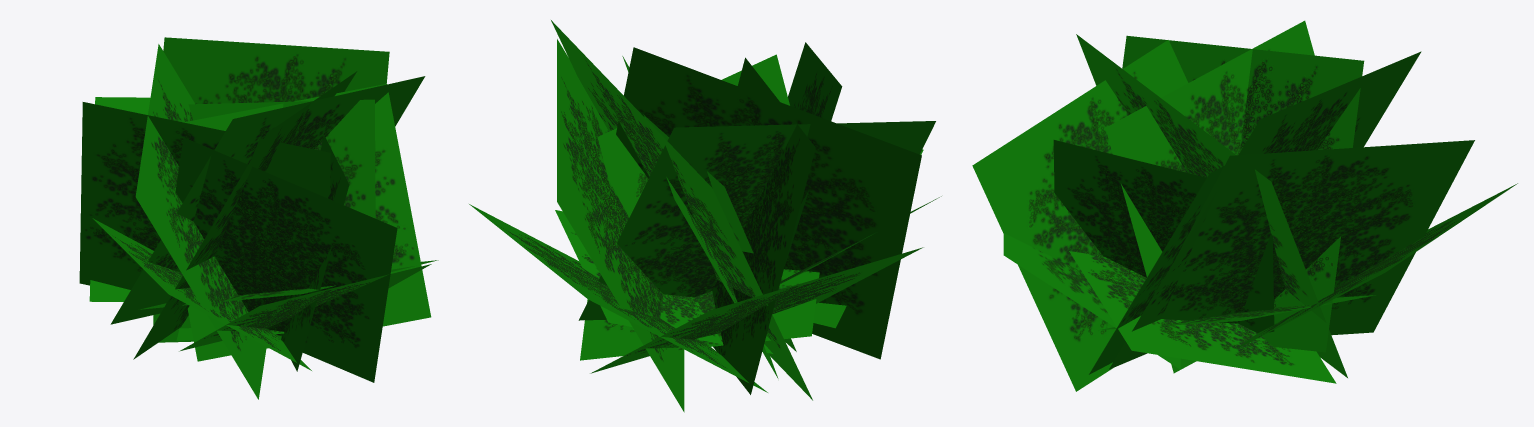
The model's file is nf_bush1.glb.
3 renders of one model, left to right at view 1: azimuth 30°, elevation 25°; view 2: azimuth 150°, elevation 25°; view 3: azimuth 270°, elevation 25°, orthographic. The views are drawn at different scales.
Visible parts, largest first — view 1: Box10; view 2: Box10; view 3: Box10.
Boxes of the visible parts, left/top/right/bottom form: Box10: left=79, top=37, right=438, bottom=399; Box10: left=469, top=20, right=941, bottom=412; Box10: left=972, top=20, right=1517, bottom=391.
Bounding box in the file's own units: 72.83 × 56.03 × 84.47.
Materials: 1 (1 with a texture image).
